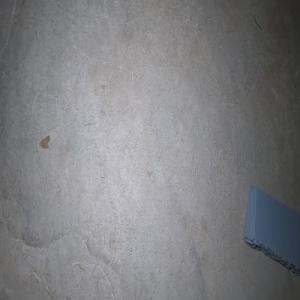PlasticPart: (242, 184, 300, 276)
